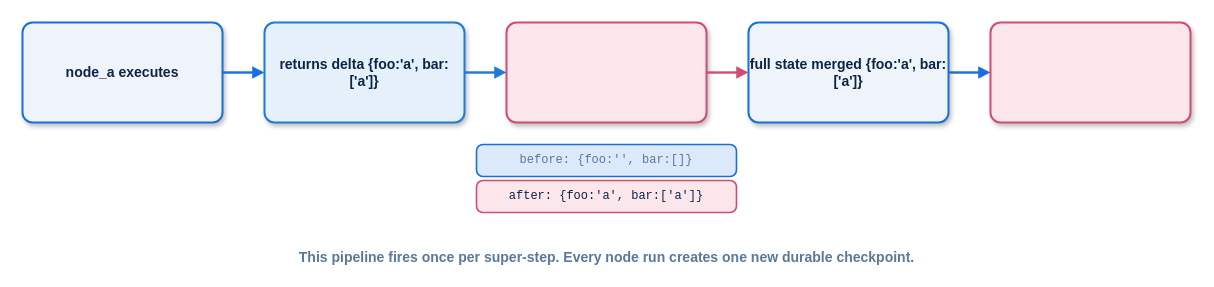
The diagram is 1214 pixels wide and 287 high, and some of its shapes have lost their labels. The centre of each missing label's shape, as x and y in pixels:
checkpoint saved step=1 next=(node_b,): (x=1091, y=73)
checkpointer applies reducers foo: replace bar: add(): (x=607, y=73)
